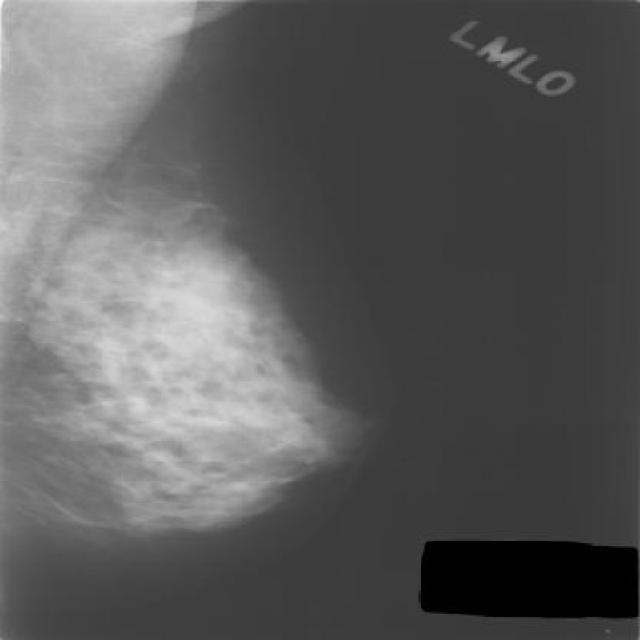tumor: (100, 223, 342, 509)
